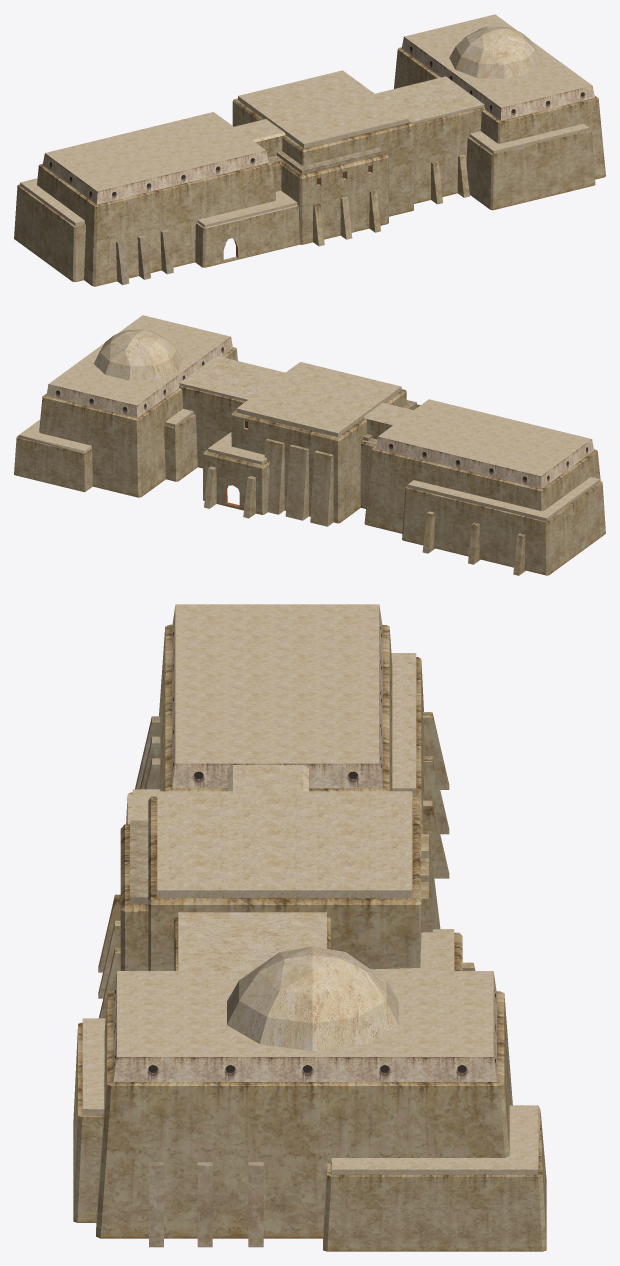
File: thm_tato_block_bldg_64x32_s02_r0_exterior_mesh_exterior_l1.fbx
The picture shows the model from 3 angles, top to bottom: view 1: azimuth 30°, elevation 25°; view 2: azimuth 150°, elevation 25°; view 3: azimuth 270°, elevation 25°; orthographic projection. The views are drawn at different scales.
Visible parts, largest first — view 1: mesh_node; view 2: mesh_node; view 3: mesh_node.
Part boxes in pixels (left/top/right/bottom): mesh_node: left=14, top=14, right=605, bottom=286; mesh_node: left=14, top=315, right=605, bottom=575; mesh_node: left=73, top=604, right=546, bottom=1251.
Bounding box in the file's own units: 77.98 × 17.28 × 31.65.
